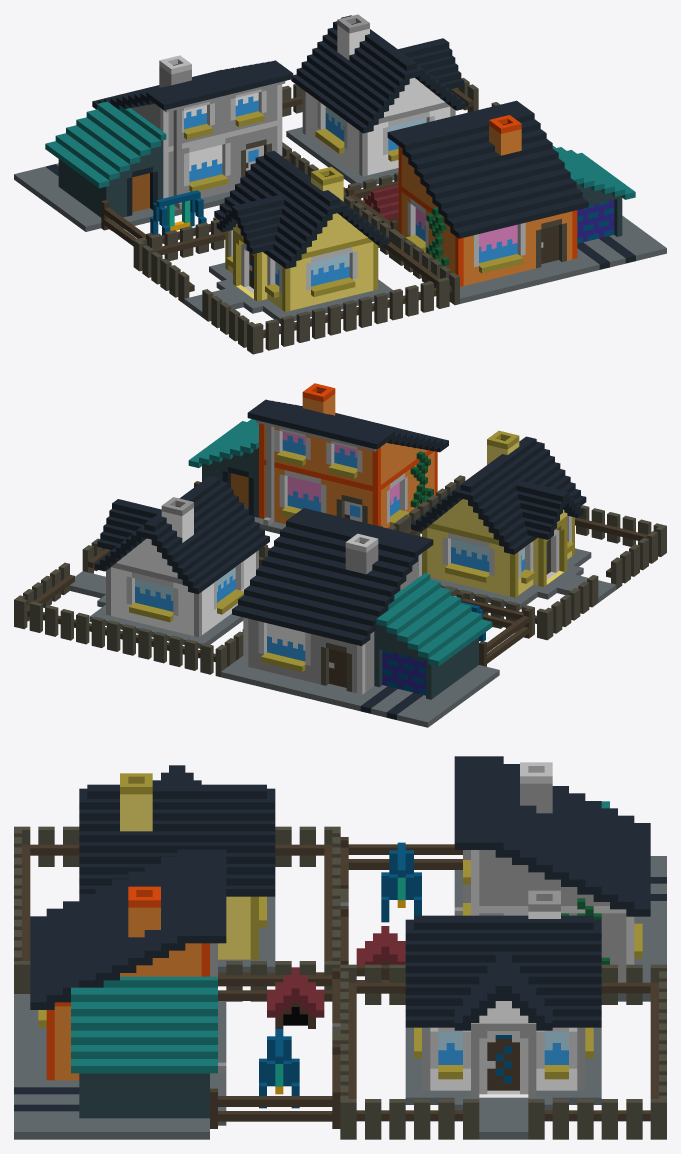
File: building_small_4_overtile.obj
3 renders of one model, top to bottom at view 1: azimuth 30°, elevation 25°; view 2: azimuth 150°, elevation 25°; view 3: azimuth 270°, elevation 25°, orthographic. The views are drawn at different scales.
Bounding box in the file's own units: 8 × 2.3 × 8.
Materials: 1 (1 with a texture image).
